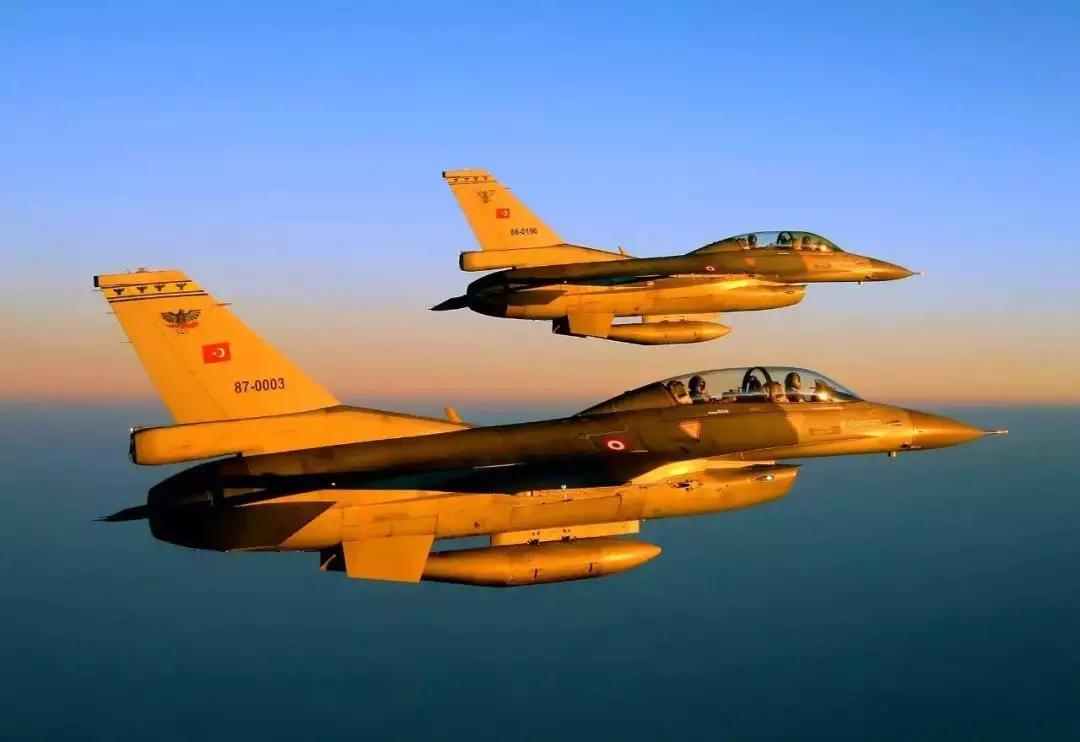airplane: (68, 263, 1017, 585), (416, 160, 923, 349)
